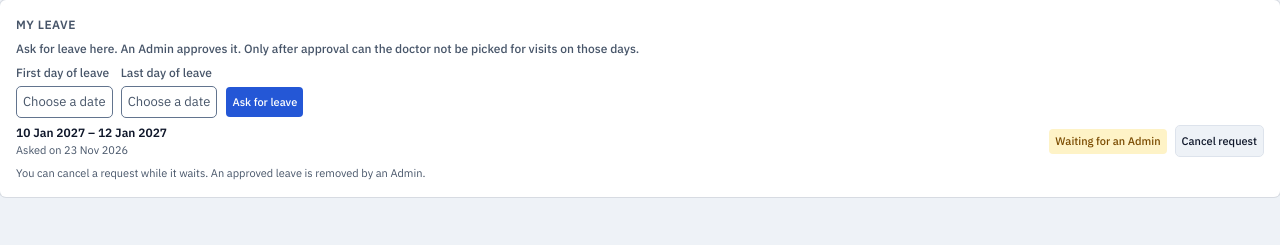
Test: MyLeave › cancels a waiting request and shows it cancelled
This screenshot has width=1280, height=245.
Click the button "Cancel request" at (1219,141), box [1175,125,1264,157]
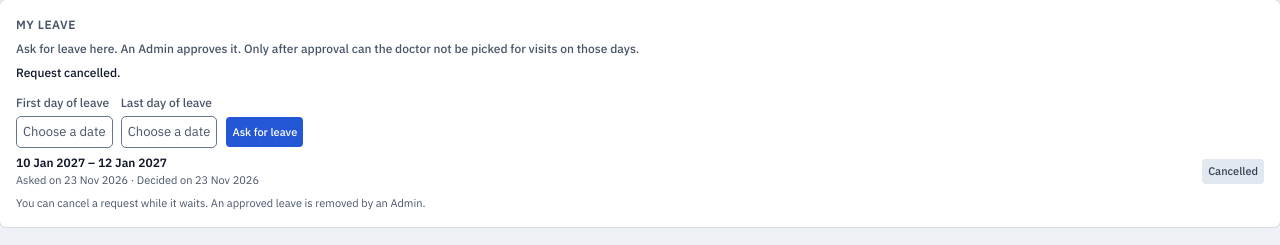
Check: the text "Cancelled" is shown, box [1202,159,1264,184]
Check: the button "Cancel request" is gone
